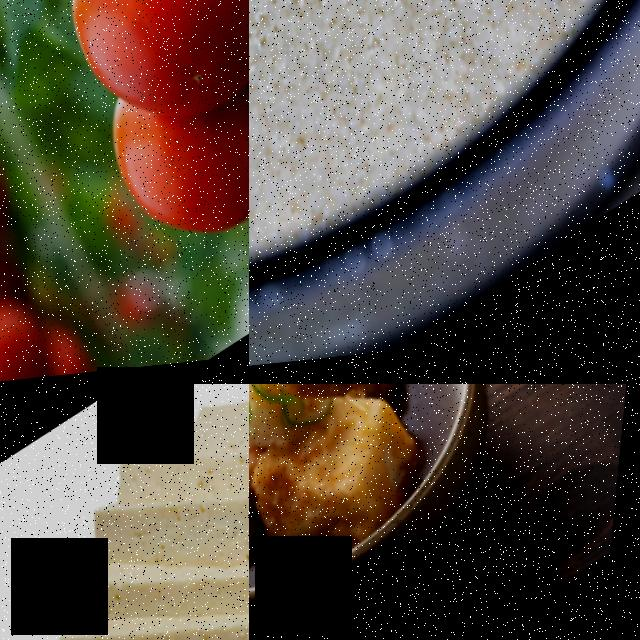tofu: (100, 384, 249, 640), (249, 386, 446, 578), (0, 577, 249, 640)
tomato: (24, 0, 249, 174)
white rice: (249, 0, 614, 282)
